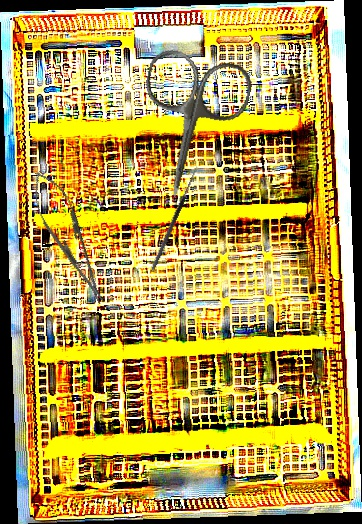Hook Surgical: (145, 163, 200, 271)
Iris Scissors: (122, 45, 256, 209)
Needle Holder: (20, 164, 118, 312)
